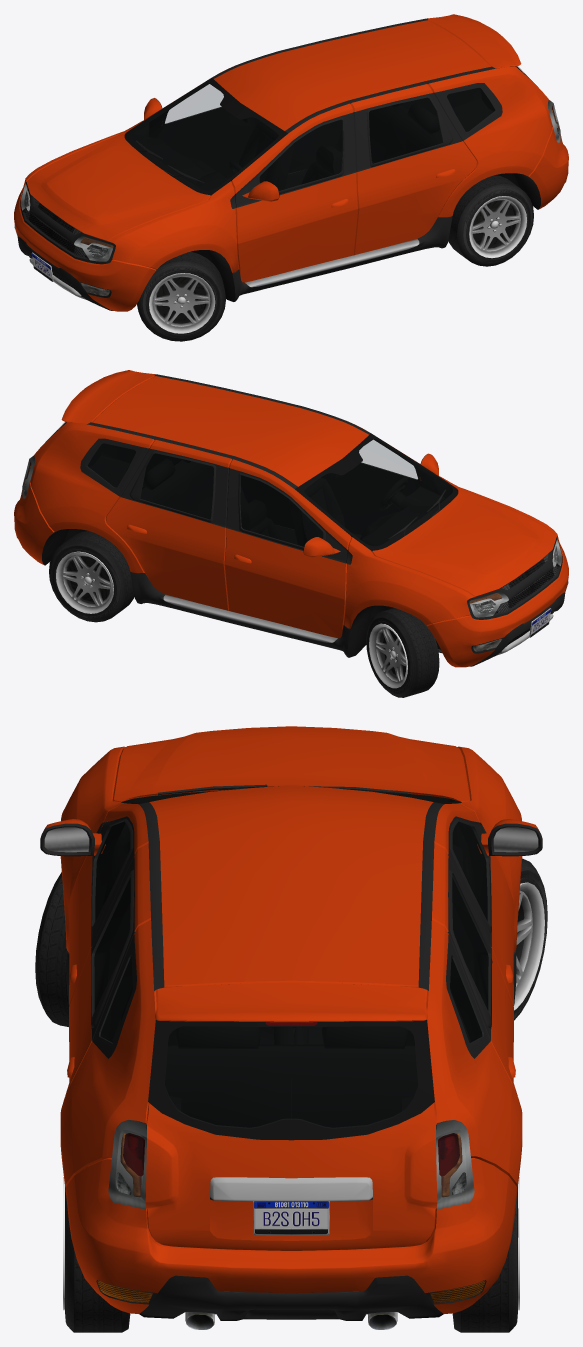
Rendered from suv.glb.
The picture shows the model from 3 angles, top to bottom: view 1: azimuth 30°, elevation 25°; view 2: azimuth 150°, elevation 25°; view 3: azimuth 270°, elevation 25°; orthographic projection. The views are drawn at different scales.
Parts seen in each view (by area): view 1: Urban10_body_Urban10_Body_0, Urban10_Bottom_UCB_BOTTOM_LT_0, Urban10_Interior_UCB_BOTTOM_LT_0, Urban10_Windshield_UCB_GLASS_CLEAN_0, Urban10_Body_Glass_UCB_GLASS_CLEAN_0, Urban10_Wheel_FL_RB1c_Tire_0, Urban10_Wheel_RL_RB1c_Tire_0; view 2: Urban10_body_Urban10_Body_0, Urban10_Bottom_UCB_BOTTOM_LT_0, Urban10_Interior_UCB_BOTTOM_LT_0, Urban10_Windshield_UCB_GLASS_CLEAN_0, Urban10_Body_Glass_UCB_GLASS_CLEAN_0, Urban10_Wheel_RR_RB1c_Tire_0, Urban10_Wheel_FR_RB1c_Tire_0; view 3: Urban10_body_Urban10_Body_0, Urban10_Bottom_UCB_BOTTOM_LT_0, Urban10_Interior_UCB_BOTTOM_LT_0, Urban10_Glass_Rear_UCB_GLASS_CLEAN_0, Urban10_Body_Glass_UCB_GLASS_CLEAN_0, Urban10_Wheel_FL_RB1c_Tire_0, Urban10_Wheel_FR_RB1c_Tire_0, Urban10_Wheel_RL_RB1c_Tire_0, Urban10_Wheel_RR_RB1c_Tire_0, Urban10_Numberplate_Rear_Numberplates_Generic_USA_0, Urban10_Brakelights_thunderbolt96_Headlights_0.
Part boxes in pixels (x1,y1,x2,y2): Urban10_body_Urban10_Body_0: [14, 14, 568, 311]; Urban10_Bottom_UCB_BOTTOM_LT_0: [14, 18, 563, 310]; Urban10_Interior_UCB_BOTTOM_LT_0: [130, 83, 494, 207]; Urban10_Windshield_UCB_GLASS_CLEAN_0: [21, 84, 278, 260]; Urban10_Body_Glass_UCB_GLASS_CLEAN_0: [260, 88, 494, 190]; Urban10_Wheel_FL_RB1c_Tire_0: [137, 251, 225, 341]; Urban10_Wheel_RL_RB1c_Tire_0: [448, 175, 533, 266]; Urban10_body_Urban10_Body_0: [14, 370, 568, 667]; Urban10_Bottom_UCB_BOTTOM_LT_0: [19, 374, 568, 666]; Urban10_Interior_UCB_BOTTOM_LT_0: [88, 439, 452, 562]; Urban10_Windshield_UCB_GLASS_CLEAN_0: [304, 439, 561, 616]; Urban10_Body_Glass_UCB_GLASS_CLEAN_0: [88, 444, 322, 546]; Urban10_Wheel_RR_RB1c_Tire_0: [49, 531, 134, 622]; Urban10_Wheel_FR_RB1c_Tire_0: [366, 608, 439, 697]; Urban10_body_Urban10_Body_0: [41, 726, 541, 1313]; Urban10_Bottom_UCB_BOTTOM_LT_0: [40, 784, 542, 1329]; Urban10_Interior_UCB_BOTTOM_LT_0: [94, 790, 488, 1129]; Urban10_Glass_Rear_UCB_GLASS_CLEAN_0: [109, 1027, 473, 1208]; Urban10_Body_Glass_UCB_GLASS_CLEAN_0: [93, 821, 489, 1042]; Urban10_Wheel_FL_RB1c_Tire_0: [35, 872, 69, 1026]; Urban10_Wheel_FR_RB1c_Tire_0: [513, 858, 547, 1020]; Urban10_Wheel_RL_RB1c_Tire_0: [63, 1177, 130, 1332]; Urban10_Wheel_RR_RB1c_Tire_0: [452, 1177, 519, 1332]; Urban10_Numberplate_Rear_Numberplates_Generic_USA_0: [253, 1201, 329, 1235]; Urban10_Brakelights_thunderbolt96_Headlights_0: [123, 1022, 459, 1176].
Size of the model in its own units: 4.29 by 1.52 by 1.92.
Materials: 6 (5 with a texture image).
